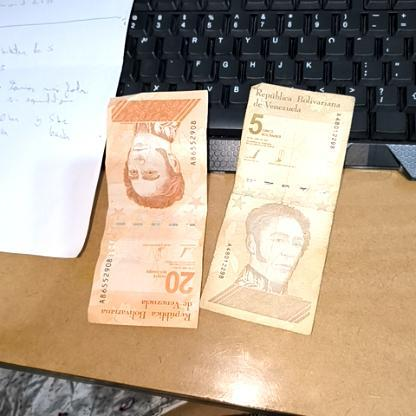five-front-vef: (201, 81, 357, 335)
twenty-front-vef: (87, 93, 210, 330)
